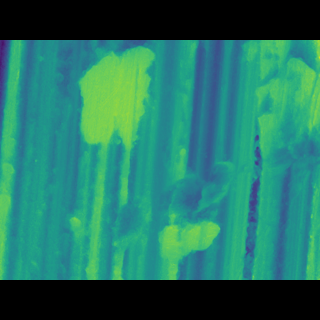Loch: (63, 157, 239, 251), (252, 80, 319, 198), (72, 69, 159, 158), (158, 201, 226, 251)
